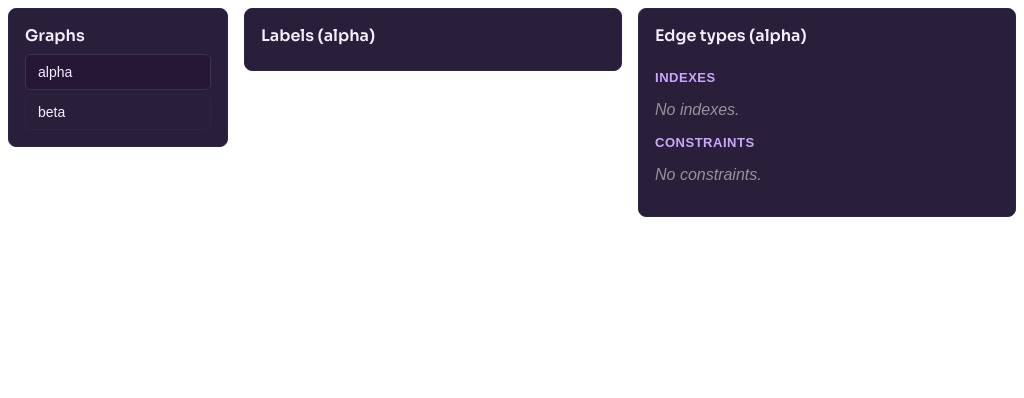
Test: F8: aborts the prior graph fetch when active graph changes mid-flight
Check: the button "alpha" is shown, box [25,54,211,90]
# Switch to "beta" BEFORE the alpha fetch resolves.
Click the button "beta" at x=118, y=112, box [25,94,211,130]
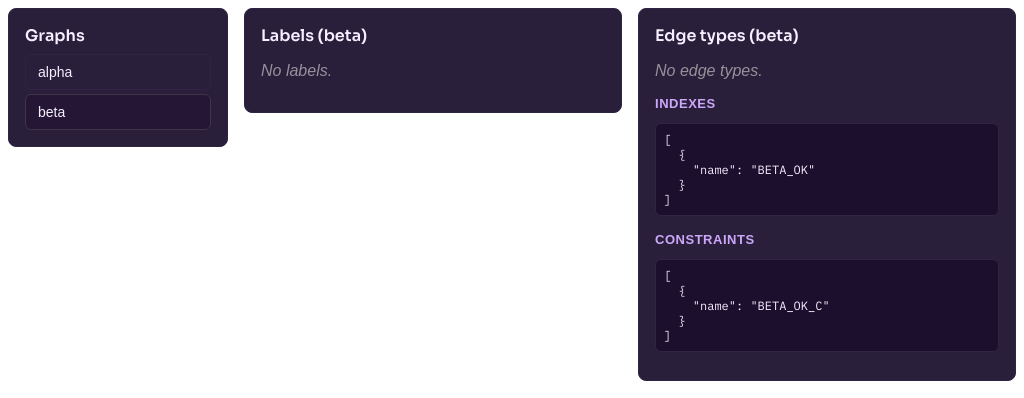
Check: the text "BETA_OK" is shown, box [664,132,815,207]
